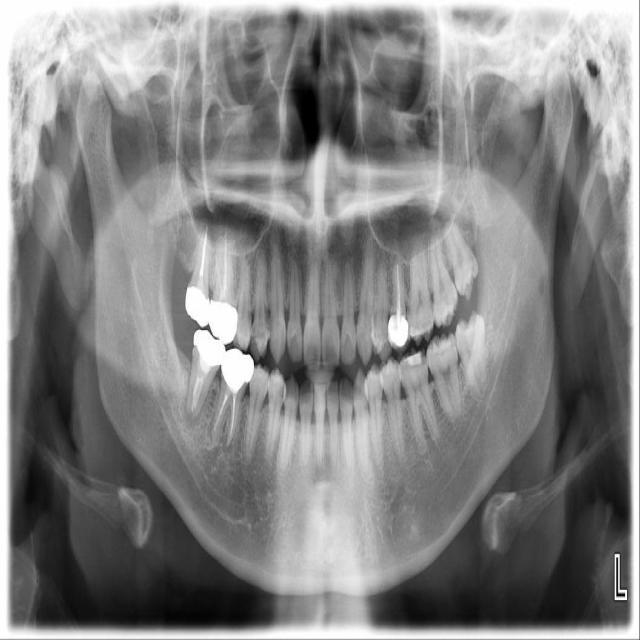Crown: (220, 346, 254, 400), (192, 327, 225, 378), (208, 297, 238, 347), (184, 285, 210, 328), (388, 311, 409, 350)
Periapical lesion: (182, 391, 209, 426), (207, 412, 221, 450), (464, 392, 478, 411), (391, 252, 405, 267), (222, 438, 233, 454)
Root Canal Treatment: (210, 391, 230, 432), (192, 369, 205, 412), (200, 232, 207, 292), (230, 395, 238, 443), (225, 231, 229, 290), (397, 264, 401, 314)
impacted tooth: (453, 311, 491, 401)
